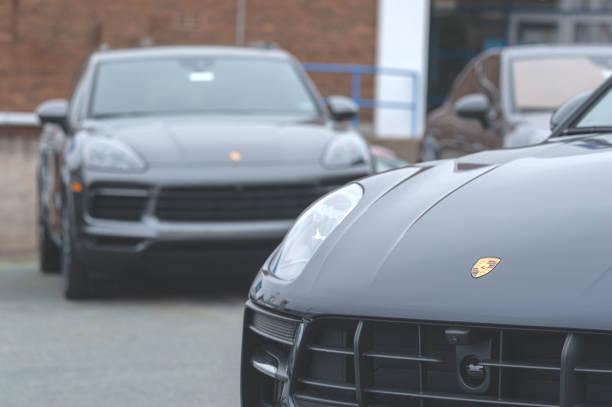porsche: (462, 251, 506, 284), (226, 145, 253, 166)
